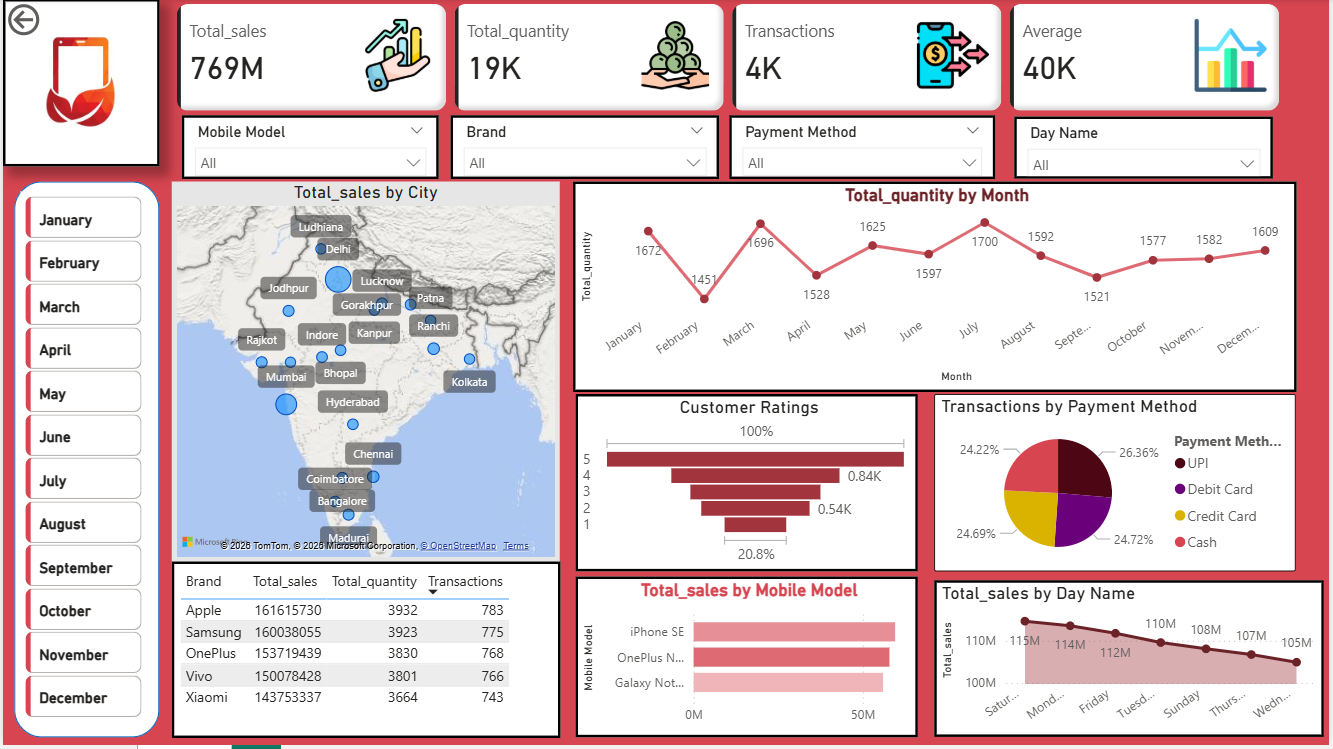

What the dashboard file says about the page in this screenshot:
{"tool":"powerbi","page":{"name":"Page 1","canvas":[1280,720],"ordinal":0},"visuals":[{"type":"image","box":[0,0,150.9,161.9],"z":0},{"type":"shape","box":[11,175.6,140,536.5],"z":1000},{"type":"advancedSlicerVisual","fields":{"Values":["Sales_data.Date.Variation.Date Hierarchy.Month"]},"box":[16.5,185.2,122.1,516],"z":2000},{"type":"cardVisual","fields":{"Data":["Sales_data.Total_sales","Sales_data.Total_quantity","Sales_data.Transactions","Sales_data.Average"]},"box":[163.3,0,1074.4,113.9],"z":3000},{"type":"map","fields":{"Category":["Sales_data.City"],"Size":["Sales_data.Total_sales"]},"box":[163.3,175.6,374.6,367.8],"z":4000},{"type":"lineChart","fields":{"Y":["Sales_data.Total_quantity"],"Category":["Sales_data.Date.Variation.Date Hierarchy.Month"]},"box":[550.3,175.6,698.5,203.1],"z":5000},{"type":"clusteredBarChart","fields":{"Category":["Sales_data.Mobile Model"],"Y":["Sales_data.Total_sales"]},"box":[553,557.1,330.7,155.1],"z":6000},{"type":"pieChart","fields":{"Category":["Sales_data.Payment Method"],"Y":["Sales_data.Transactions"]},"box":[898.8,381.5,348.5,171.5],"z":7000},{"type":"funnel","title":"Customer Ratings","fields":{"Category":["Sales_data.Customer Ratings"],"Y":["CountNonNull(Sales_data.Customer Ratings)"]},"box":[553,381.5,330.7,171.5],"z":8000},{"type":"areaChart","fields":{"Category":["Sales_data.Day Name"],"Y":["Sales_data.Total_sales"]},"box":[898.8,561.2,376,150.9],"z":9000},{"type":"tableEx","fields":{"Values":["Sales_data.Brand","Sales_data.Total_sales","Sales_data.Total_quantity","Sales_data.Transactions"]},"box":[163,543,375,170],"z":10000},{"type":"actionButton","box":[0,0,100,40],"z":11000},{"type":"slicer","fields":{"Values":["Sales_data.Mobile Model"]},"box":[172.9,112.5,248.4,61.7],"z":12000},{"type":"slicer","fields":{"Values":["Sales_data.Brand"]},"box":[432.2,112.5,259.3,61.7],"z":13000},{"type":"slicer","fields":{"Values":["Sales_data.Payment Method"]},"box":[701.2,112.5,256.6,61.7],"z":14000},{"type":"slicer","fields":{"Values":["Sales_data.Day Name"]},"box":[975.6,113.9,249.7,60.4],"z":15000}]}

Visuals, with their boxes in screenshot pixels (x1, y1, x2, y2), scaled from the page's 1280x720 canvas onto the 1333x749 screenshot:
image: 0 0 157 168
shape: 11 183 157 741
advancedSlicerVisual - Sales_data.Date.Variation.Date Hierarchy.Month: 17 193 144 729
cardVisual - Sales_data.Total_sales x Sales_data.Total_quantity: 170 0 1289 118
map - Sales_data.City x Sales_data.Total_sales: 170 183 560 565
lineChart - Sales_data.Total_quantity x Sales_data.Date.Variation.Date Hierarchy.Month: 573 183 1301 394
clusteredBarChart - Sales_data.Mobile Model x Sales_data.Total_sales: 576 580 920 741
pieChart - Sales_data.Payment Method x Sales_data.Transactions: 936 397 1299 575
"Customer Ratings" funnel: 576 397 920 575
areaChart - Sales_data.Day Name x Sales_data.Total_sales: 936 584 1328 741
tableEx - Sales_data.Brand x Sales_data.Total_sales: 170 565 560 742
actionButton: 0 0 104 42
slicer - Sales_data.Mobile Model: 180 117 439 181
slicer - Sales_data.Brand: 450 117 720 181
slicer - Sales_data.Payment Method: 730 117 997 181
slicer - Sales_data.Day Name: 1016 118 1276 181
